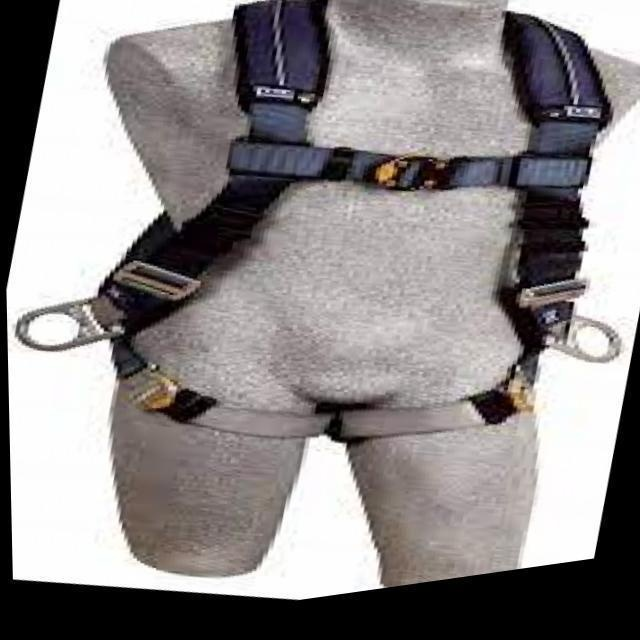Arnes_seguridad: (90, 0, 597, 436)
